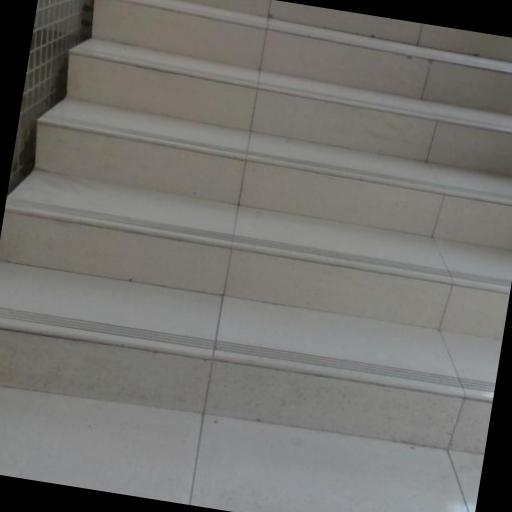stairs: (0, 0, 511, 453)
